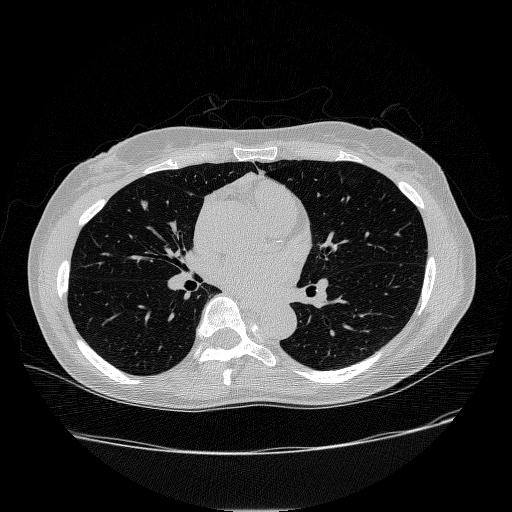nodule: (139, 199, 151, 211)
